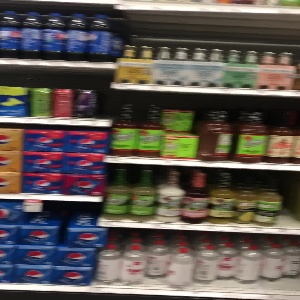void: (279, 173, 300, 229)
